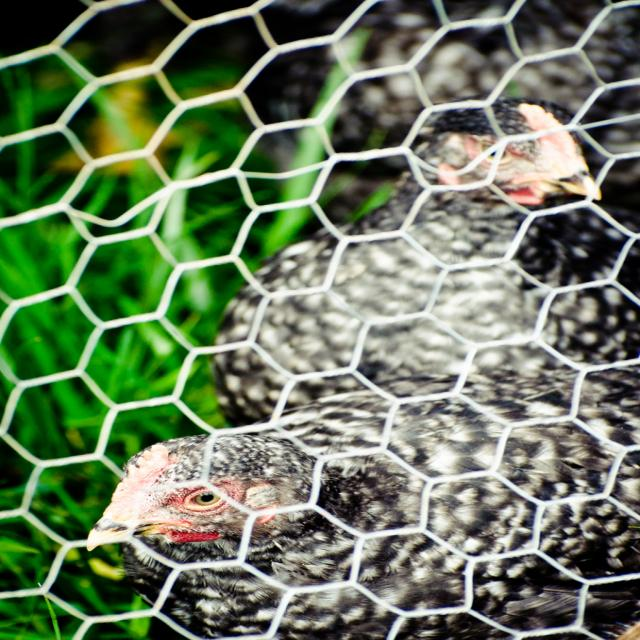Chicken: (83, 372, 640, 640), (210, 103, 640, 431)
